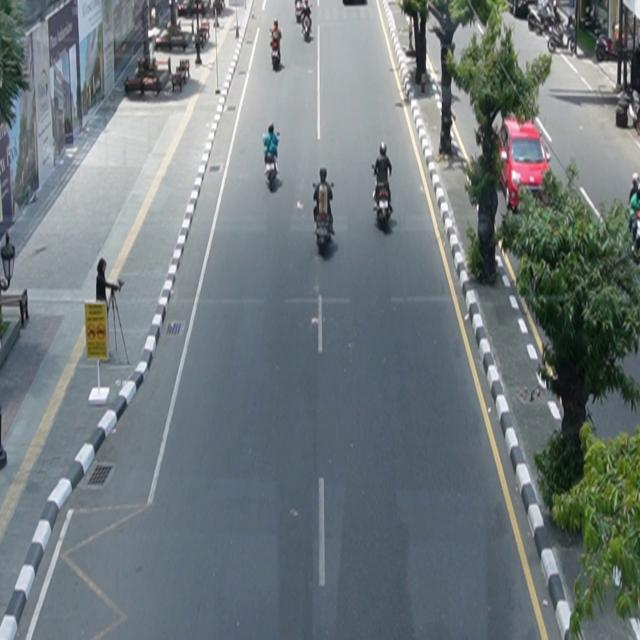car: (493, 116, 552, 213)
